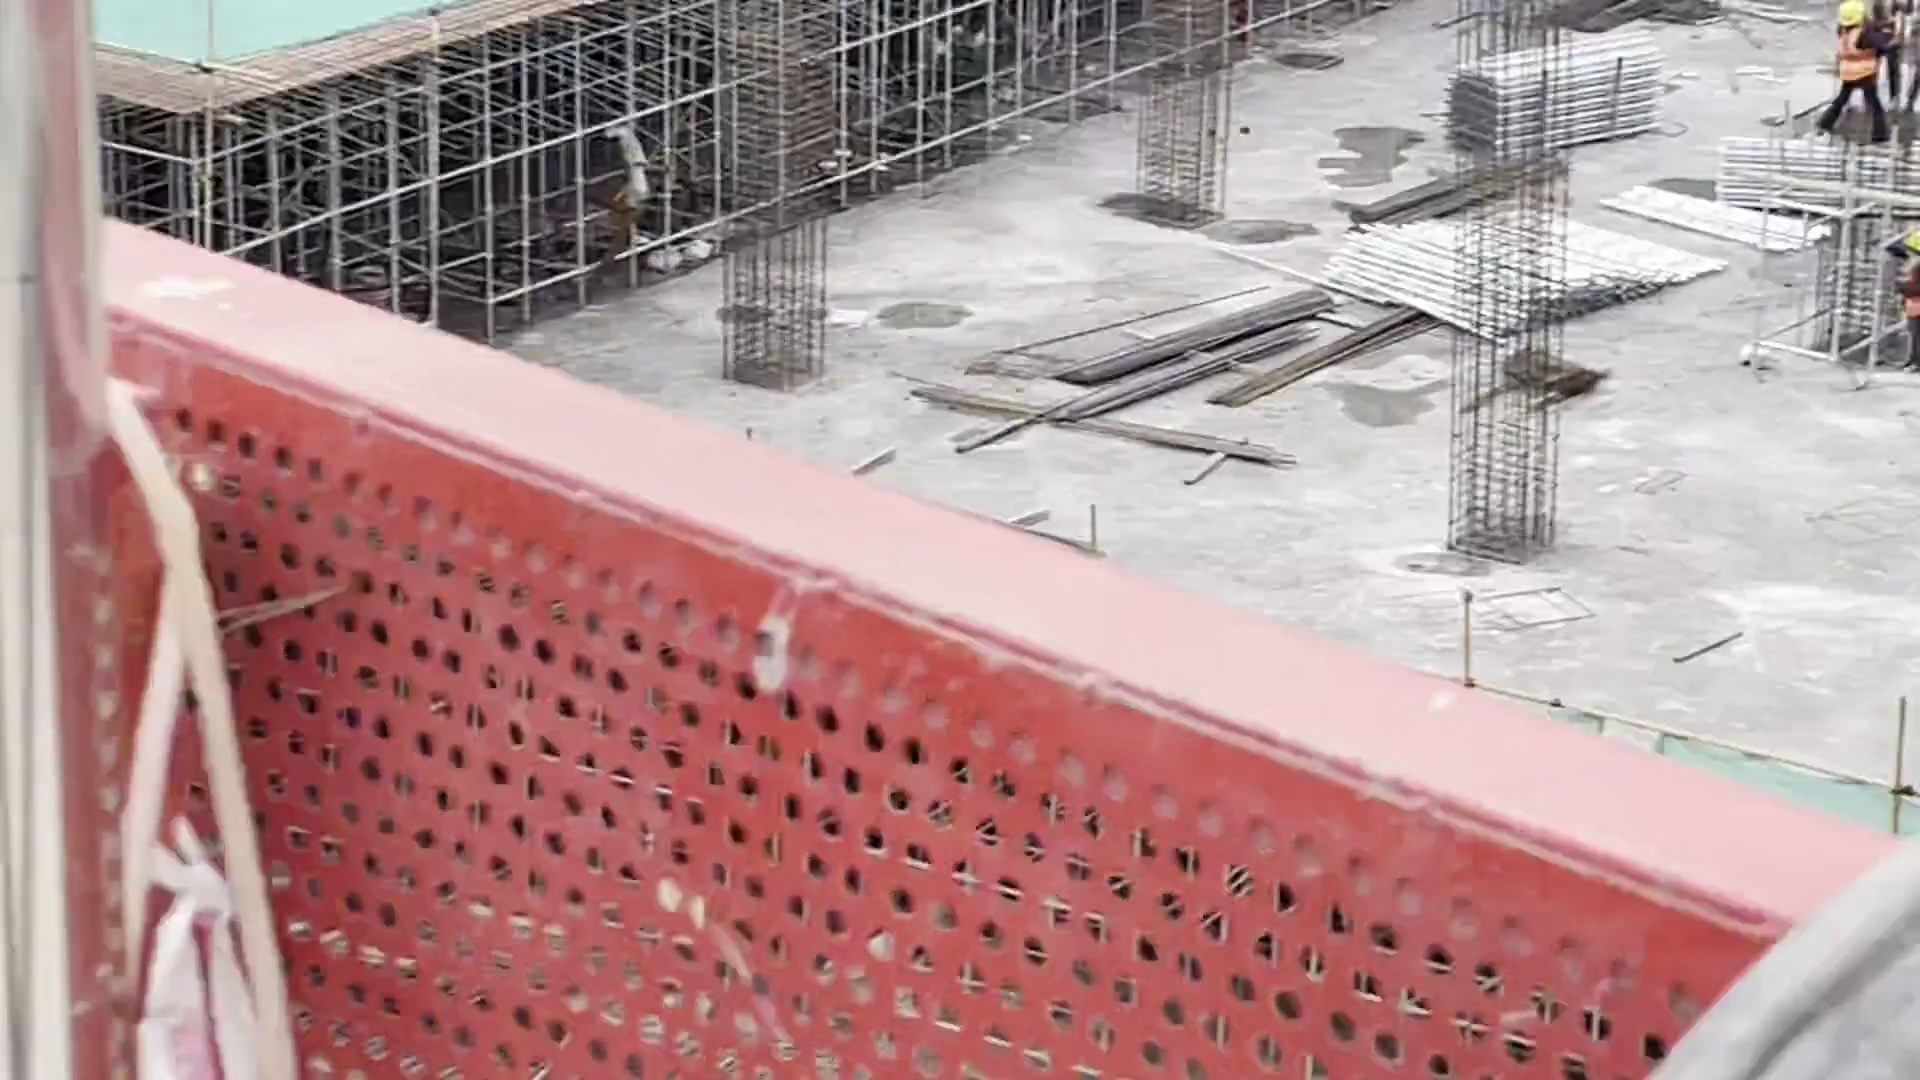helmet: (1840, 5, 1863, 30)
scaffold: (1328, 179, 1727, 338), (1441, 24, 1687, 154), (1718, 131, 1920, 227)
